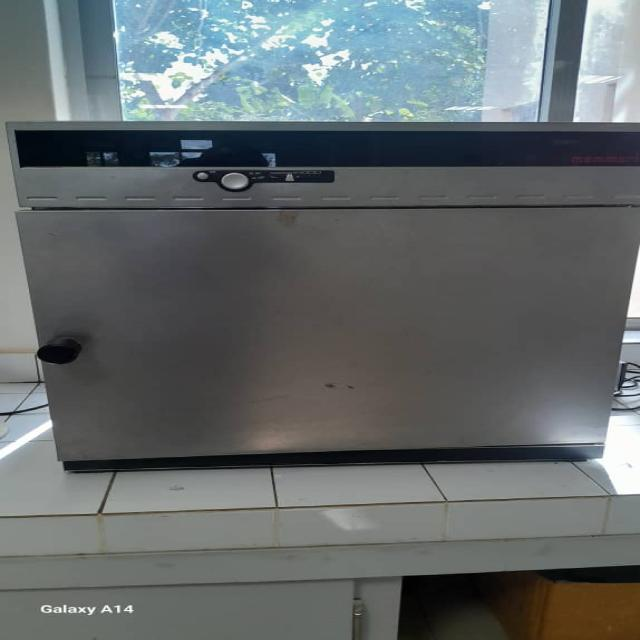Incubator: (6, 109, 640, 476)
